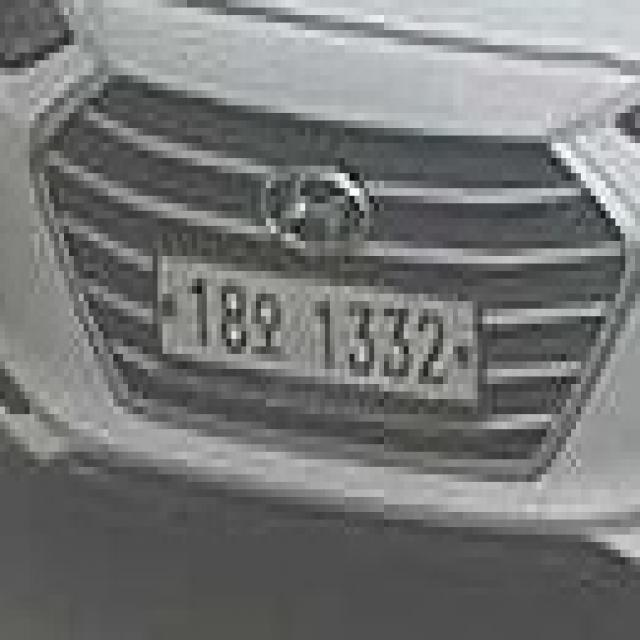1: (182, 264, 217, 362), (305, 286, 340, 377)
2: (413, 309, 453, 399)
3: (340, 294, 379, 384), (379, 301, 414, 384)
8: (217, 271, 251, 361)
license_plate: (143, 233, 492, 437)
o: (246, 286, 291, 369)
